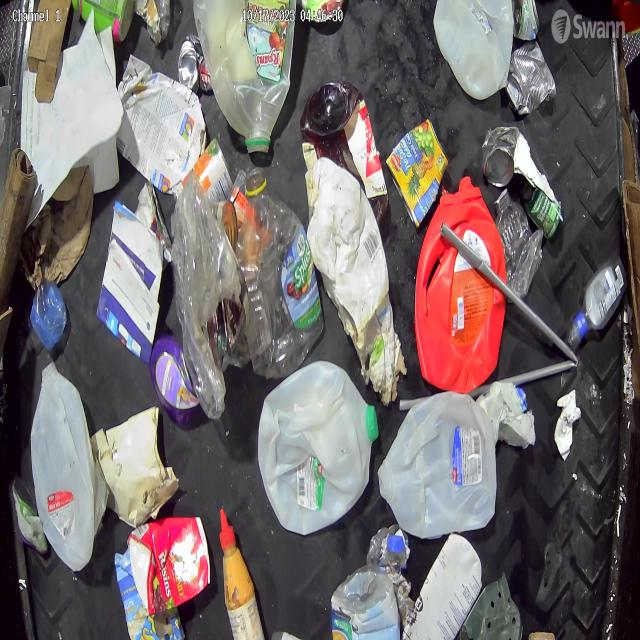can: (385, 116, 449, 230), (507, 39, 557, 120), (483, 125, 524, 190), (178, 34, 209, 92), (512, 0, 540, 41)
milk_jug: (258, 358, 377, 538), (381, 391, 498, 539), (29, 356, 100, 570), (435, 0, 515, 103)
non_white_jug: (417, 175, 505, 391), (193, 0, 297, 153)
plastic_bottle: (573, 256, 628, 338)
